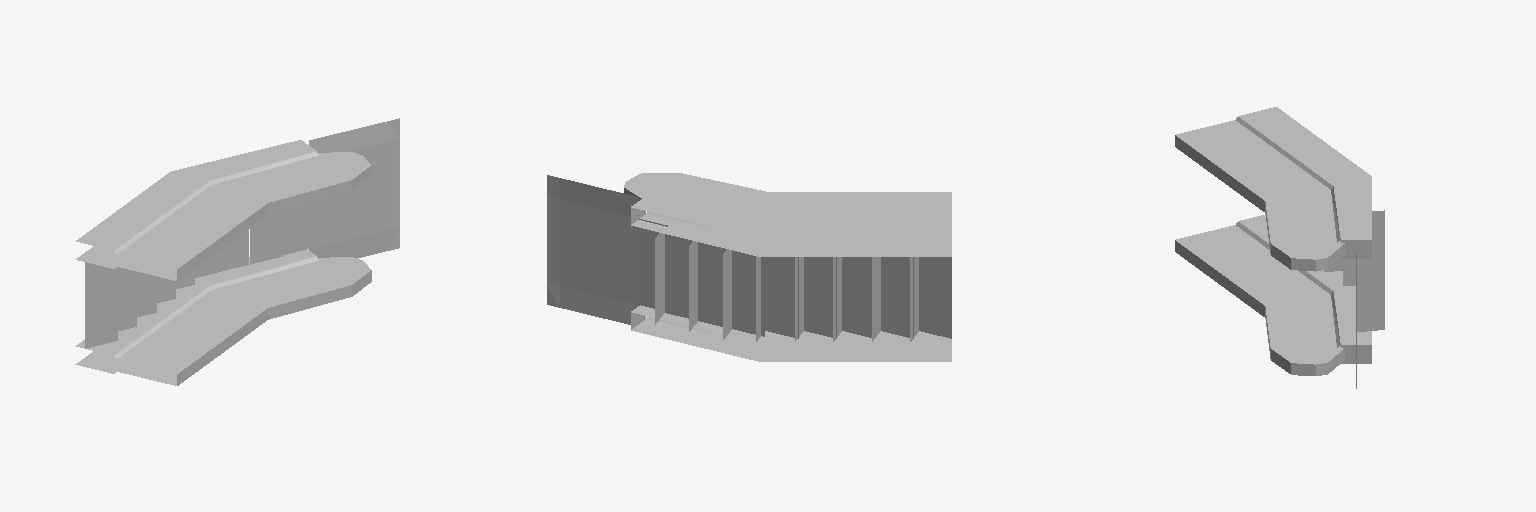
The model's file is EscalatorStart_Col.obj.
3 renders of one model, left to right at view 1: azimuth 30°, elevation 25°; view 2: azimuth 150°, elevation 25°; view 3: azimuth 270°, elevation 25°, orthographic.
Visible parts, largest first — view 1: EscalatorStart_Col; view 2: EscalatorStart_Col; view 3: EscalatorStart_Col.
Boxes of the visible parts, x1=… form: EscalatorStart_Col: x1=75, y1=118, x2=399, y2=385; EscalatorStart_Col: x1=547, y1=173, x2=951, y2=361; EscalatorStart_Col: x1=1175, y1=107, x2=1384, y2=388.
Bounding box in the file's own units: 4.41 × 1.5 × 2.2.